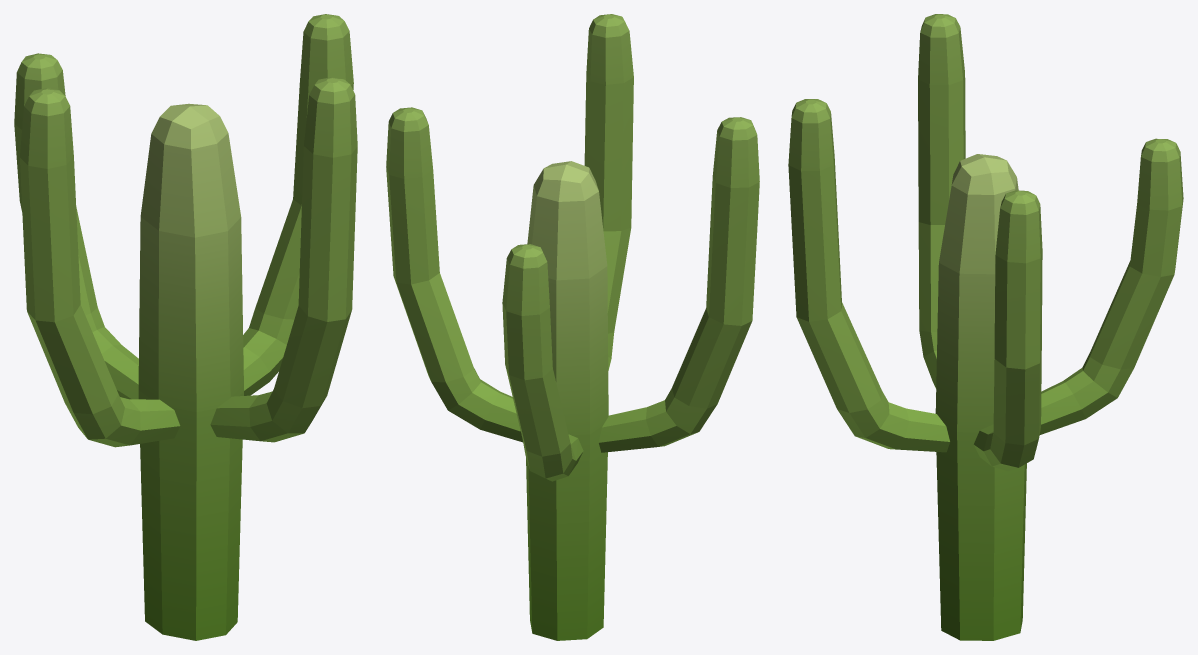
The model's file is cactus 5.fbx.
3 views of the same model, side by side, from view 1: azimuth 30°, elevation 25°; view 2: azimuth 150°, elevation 25°; view 3: azimuth 270°, elevation 25° (orthographic). The views are drawn at different scales.
Parts seen in each view (by area): view 1: cactus 5; view 2: cactus 5; view 3: cactus 5.
Boxes of the visible parts, box(x1,y1,x2,y2) form: cactus 5: box(14, 14, 357, 640); cactus 5: box(386, 14, 759, 640); cactus 5: box(788, 14, 1183, 640).
Size of the model in its own units: 150 by 234 by 154.
